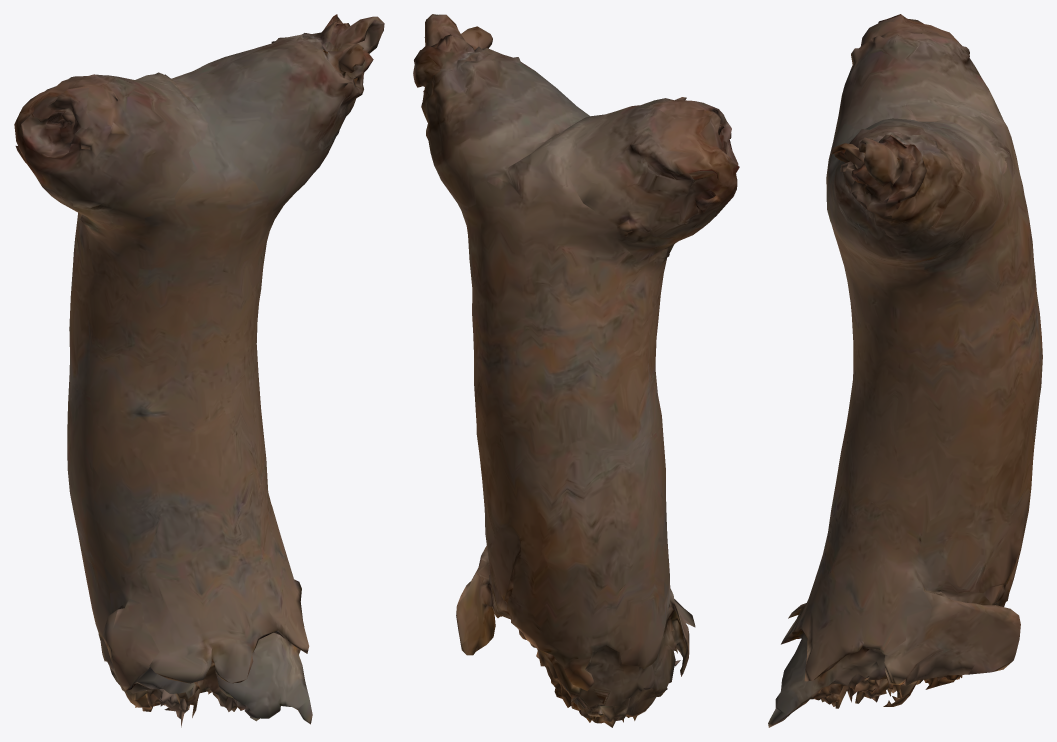
The model's file is dead-quiver-branch-02.glb.
3 renders of one model, left to right at view 1: azimuth 30°, elevation 25°; view 2: azimuth 150°, elevation 25°; view 3: azimuth 270°, elevation 25°, orthographic.
Parts seen in each view (by area): view 1: dead_quiver_branch_02; view 2: dead_quiver_branch_02; view 3: dead_quiver_branch_02.
Part boxes in pixels (<box>): dead_quiver_branch_02: <box>14,14,384,727</box>; dead_quiver_branch_02: <box>413,14,739,727</box>; dead_quiver_branch_02: <box>768,14,1042,727</box>.
Bounding box in the file's own units: 0.285 × 0.5258 × 0.2011.
1 material, 1 textured.
